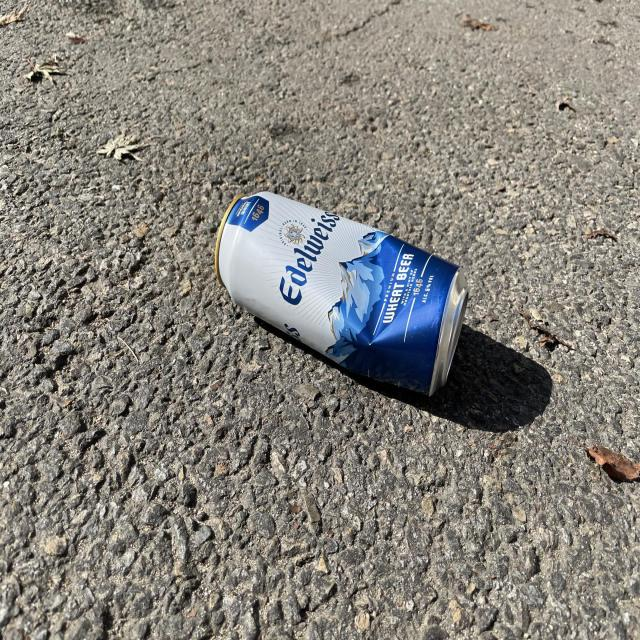can: (215, 191, 469, 395)
